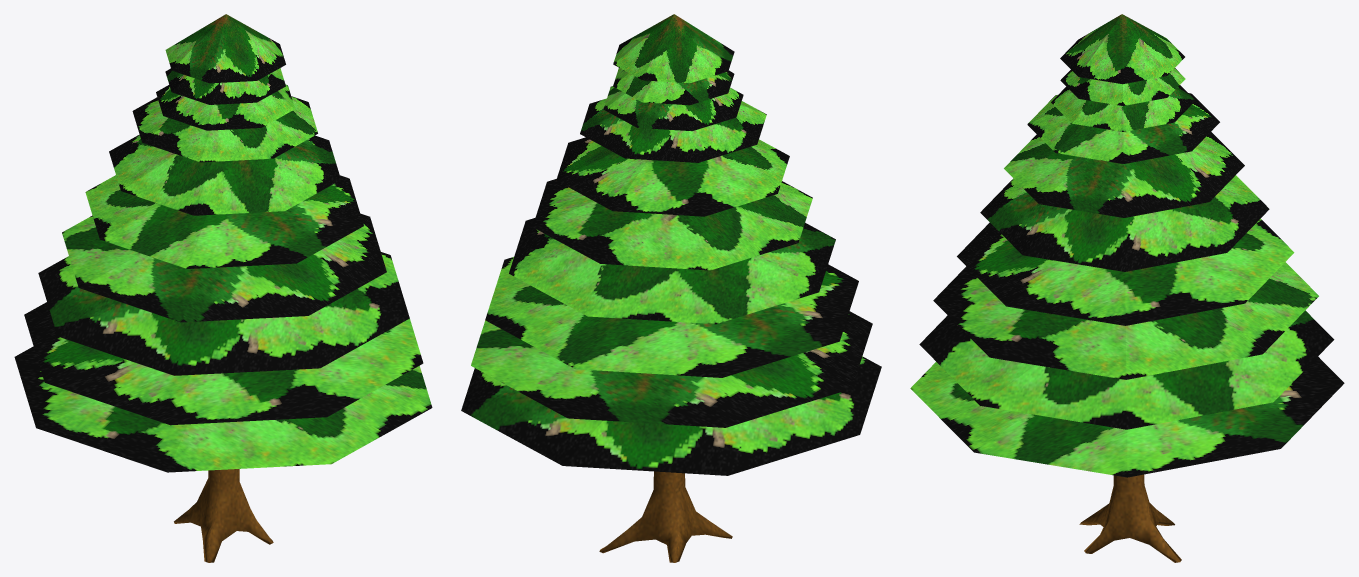
File: fir3.gltf
3 renders of one model, left to right at view 1: azimuth 30°, elevation 25°; view 2: azimuth 150°, elevation 25°; view 3: azimuth 270°, elevation 25°, orthographic.
Parts seen in each view (by area): view 1: something; view 2: something; view 3: something.
Part boxes in pixels (left/top/right/bottom): something: left=14, top=14, right=432, bottom=562; something: left=461, top=14, right=881, bottom=562; something: left=910, top=14, right=1344, bottom=562.
Bounding box in the file's own units: 2.03 × 2.72 × 2.03.
Materials: 1 (1 with a texture image).
